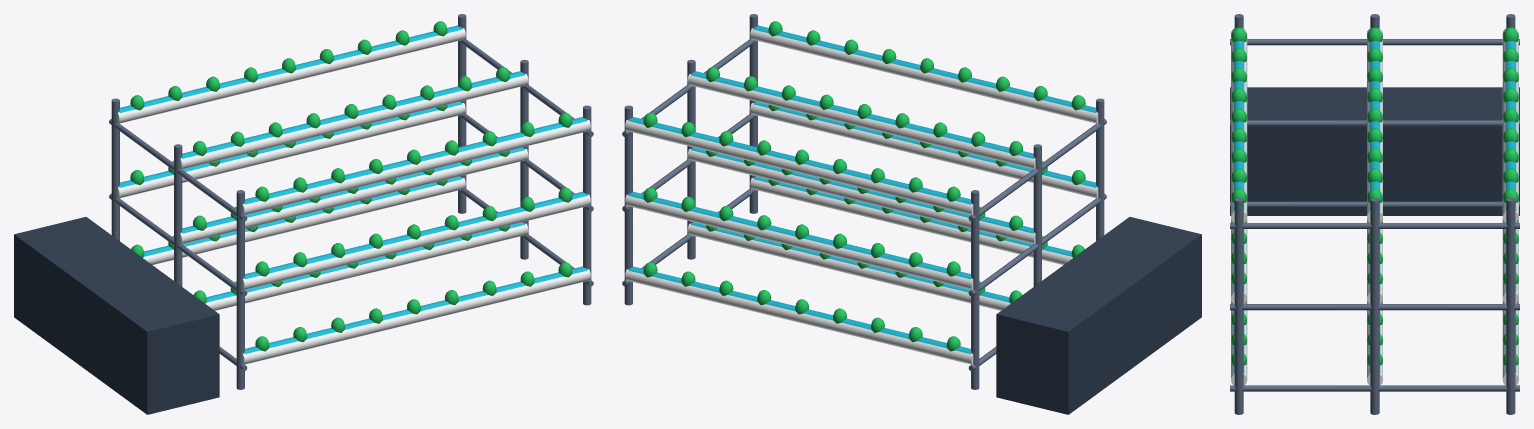
File: hidroponia.glb
3 renders of one model, left to right at view 1: azimuth 30°, elevation 25°; view 2: azimuth 150°, elevation 25°; view 3: azimuth 270°, elevation 25°, orthographic. The views are drawn at different scales.
Bounding box in the file's own units: 3.1 × 1.3 × 1.6.
